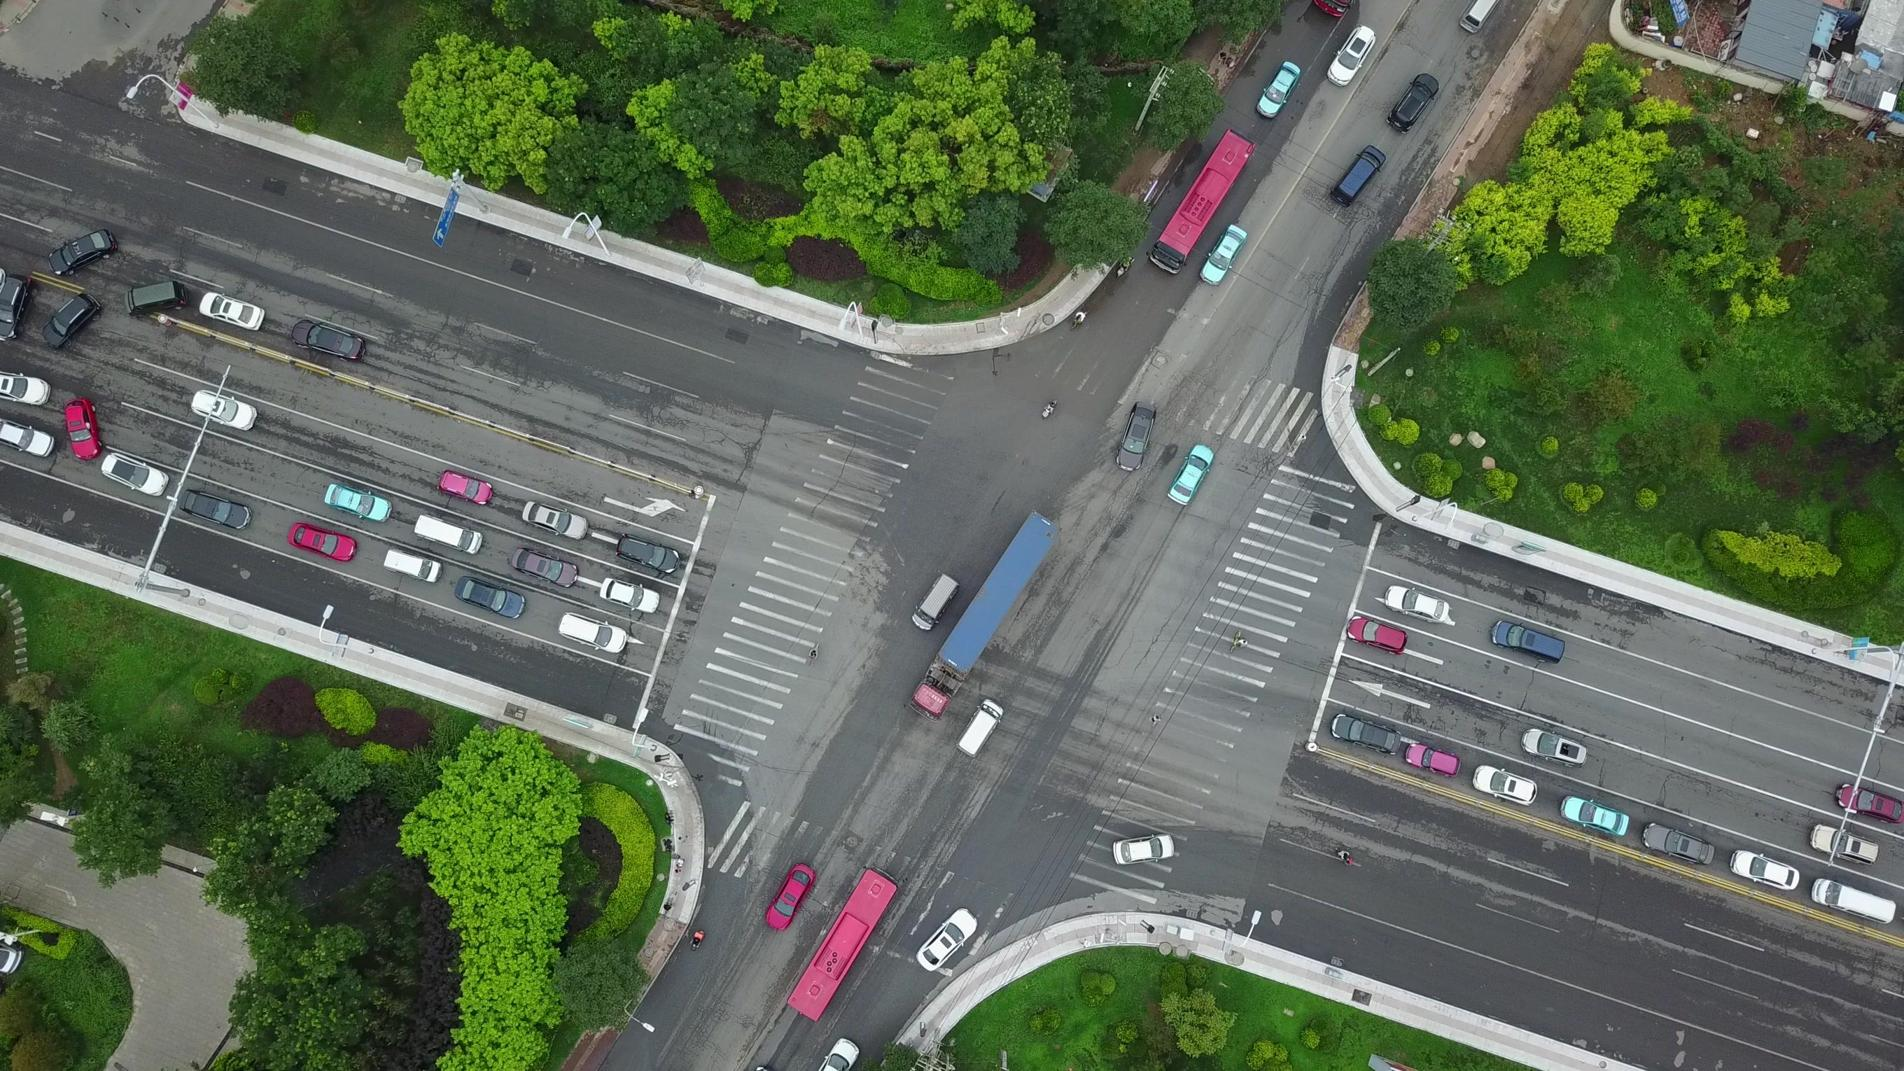bus: (779, 864, 900, 1024), (1143, 124, 1255, 277)
car: (913, 905, 981, 976), (1807, 874, 1899, 925), (286, 313, 369, 366), (758, 859, 817, 932), (1327, 139, 1387, 208), (1639, 819, 1720, 868), (43, 224, 123, 273), (175, 483, 252, 534), (319, 477, 394, 528), (282, 517, 361, 565), (902, 573, 962, 636), (1805, 820, 1880, 870), (1491, 616, 1567, 666), (97, 449, 170, 500), (1382, 65, 1440, 129), (409, 509, 485, 557), (1516, 724, 1591, 773), (1724, 843, 1799, 892), (517, 496, 590, 545), (1327, 707, 1404, 755), (451, 573, 526, 621), (1194, 222, 1249, 288), (1556, 792, 1632, 840), (1113, 398, 1160, 473), (1376, 581, 1453, 626), (1323, 24, 1380, 86), (1159, 443, 1214, 507), (1248, 56, 1302, 120), (58, 394, 107, 464), (591, 571, 663, 620), (611, 531, 683, 579), (190, 386, 262, 434), (39, 289, 99, 347), (1469, 762, 1540, 809), (116, 275, 192, 319), (195, 288, 268, 333), (554, 609, 630, 653), (507, 545, 579, 588), (1342, 616, 1411, 658), (377, 547, 449, 586), (1112, 830, 1176, 874), (433, 464, 497, 505), (0, 416, 56, 462), (1397, 740, 1461, 779), (0, 367, 54, 407)
motor: (1112, 250, 1136, 280), (1036, 398, 1063, 422), (687, 923, 705, 952), (806, 639, 824, 663)
truck: (900, 509, 1059, 724), (949, 696, 1004, 761)
